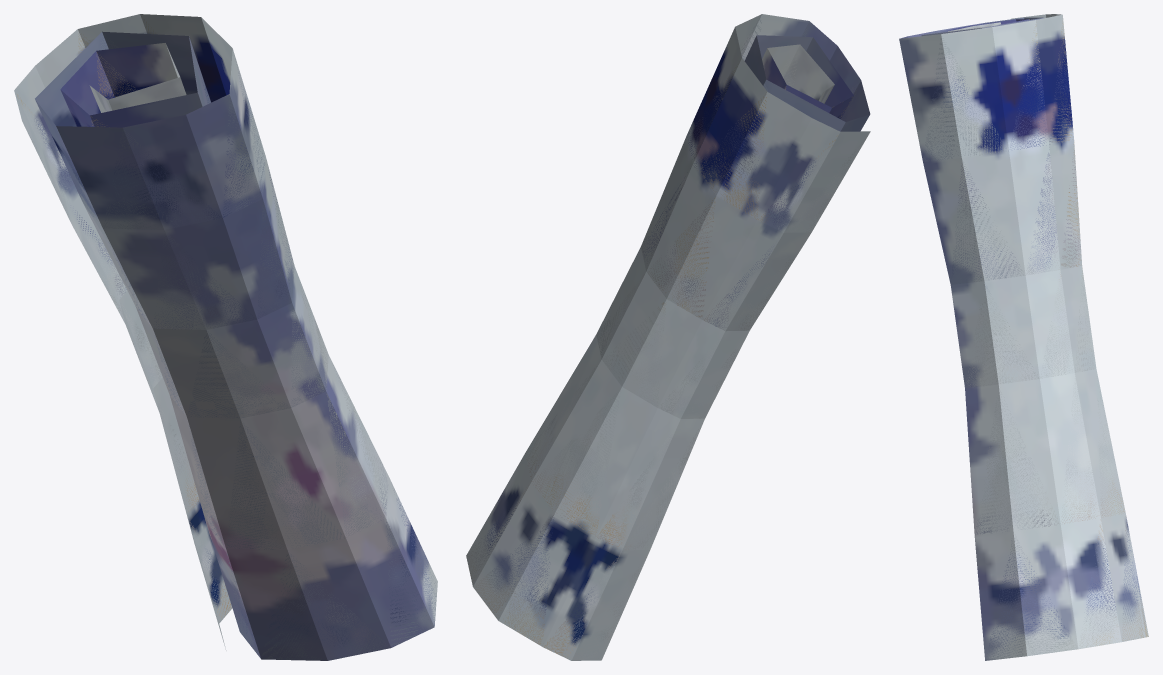
File: billet20.obj
The picture shows the model from 3 angles, left to right: view 1: azimuth 30°, elevation 25°; view 2: azimuth 150°, elevation 25°; view 3: azimuth 270°, elevation 25°; orthographic projection. The views are drawn at different scales.
Size of the model in its own units: 1.55 by 2.46 by 0.9645.
Materials: 2 (2 with a texture image).
